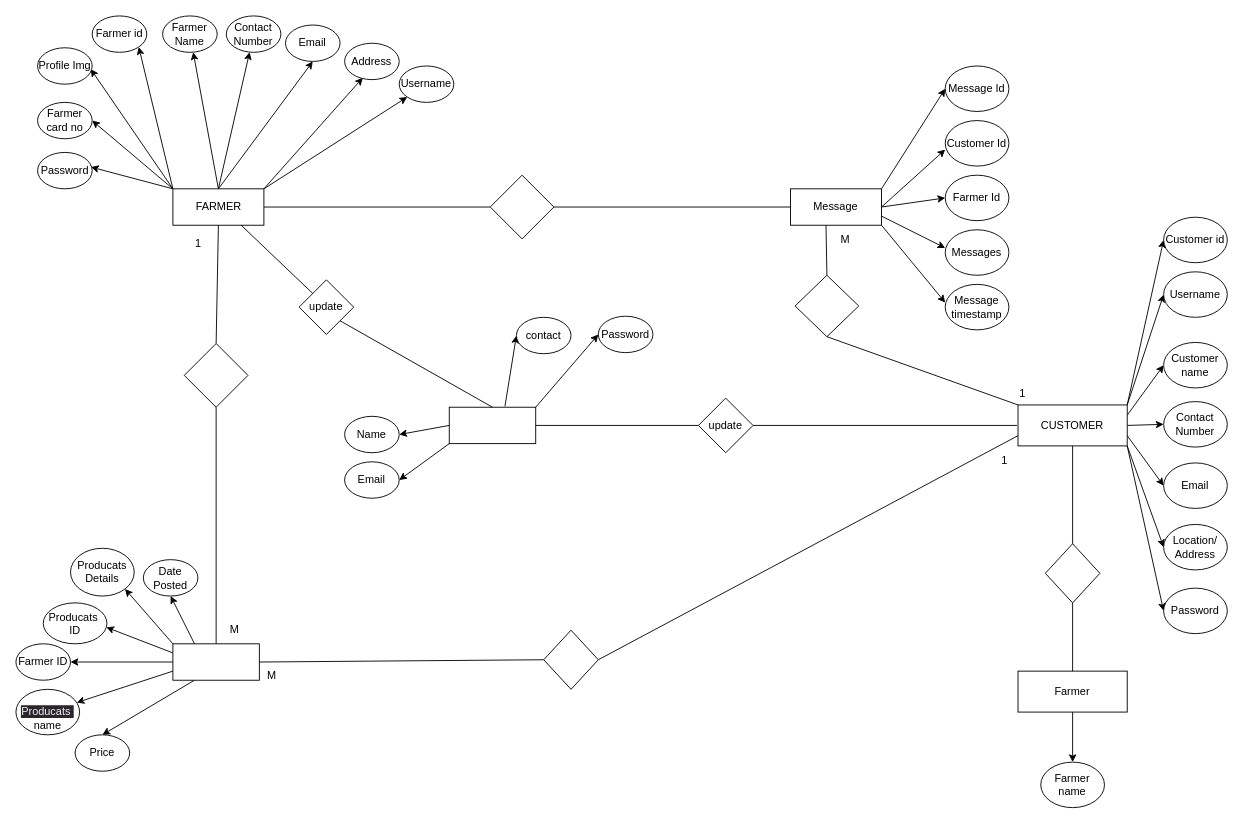
The diagram is 1244 pixels wide and 824 high, and some of its shapes have lost their labels. Each missing label, with the centre of its shape:
Check / search: the point at 570,659
Products: the point at 215,661
Profile: the point at 492,425
Responses: the point at 521,206
Search: the point at 1072,573
Sends: the point at 826,305
Uploads: the point at 215,375
